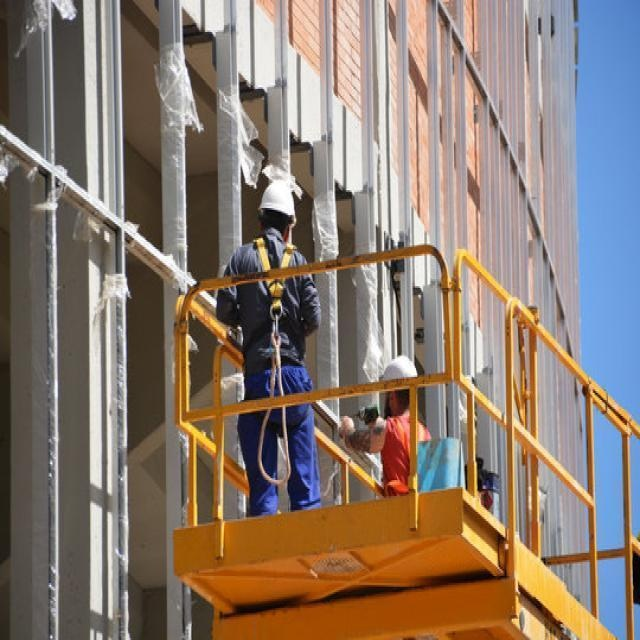Arnes_seguridad: (247, 237, 312, 437)
